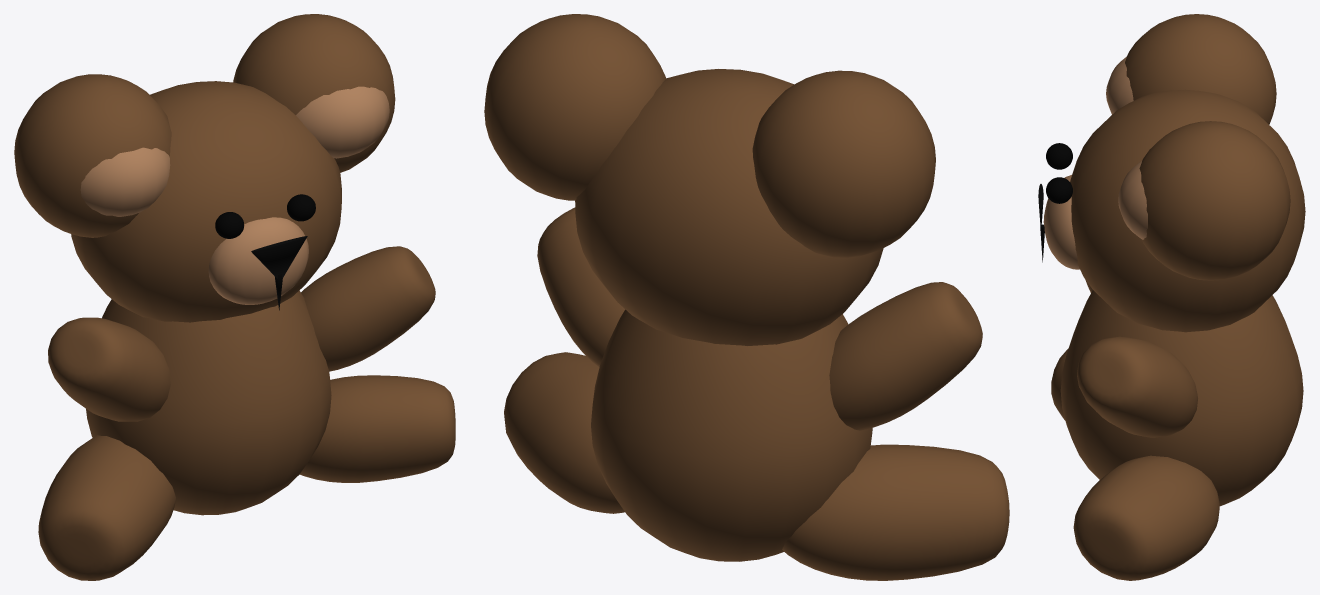
Rendered from small bear.fbx.
3 views of the same model, side by side, from view 1: azimuth 30°, elevation 25°; view 2: azimuth 150°, elevation 25°; view 3: azimuth 270°, elevation 25° (orthographic). The views are drawn at different scales.
Visible parts, largest first — view 1: pSphere2; view 2: pSphere2; view 3: pSphere2.
Part boxes in pixels (bbox=[...]): pSphere2: bbox=[14, 14, 455, 580]; pSphere2: bbox=[484, 14, 1009, 580]; pSphere2: bbox=[1038, 14, 1305, 580].
Size of the model in its own units: 1.03 by 1.05 by 0.5799.
